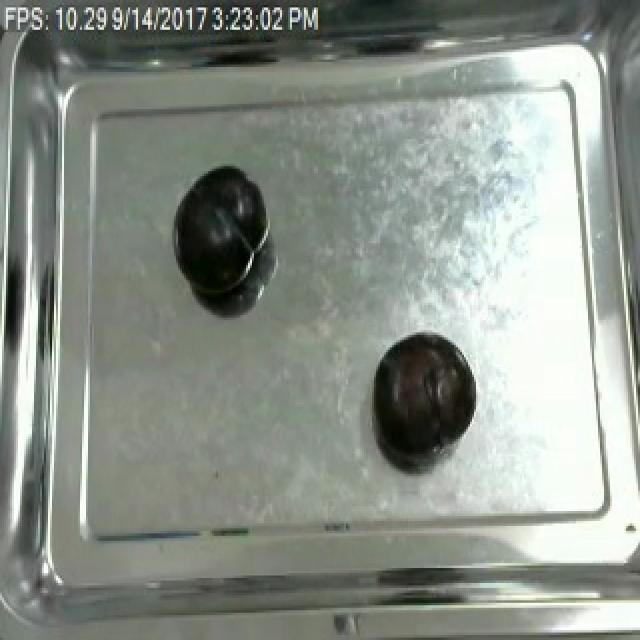Fruit: (368, 330, 478, 459), (172, 158, 268, 302)
